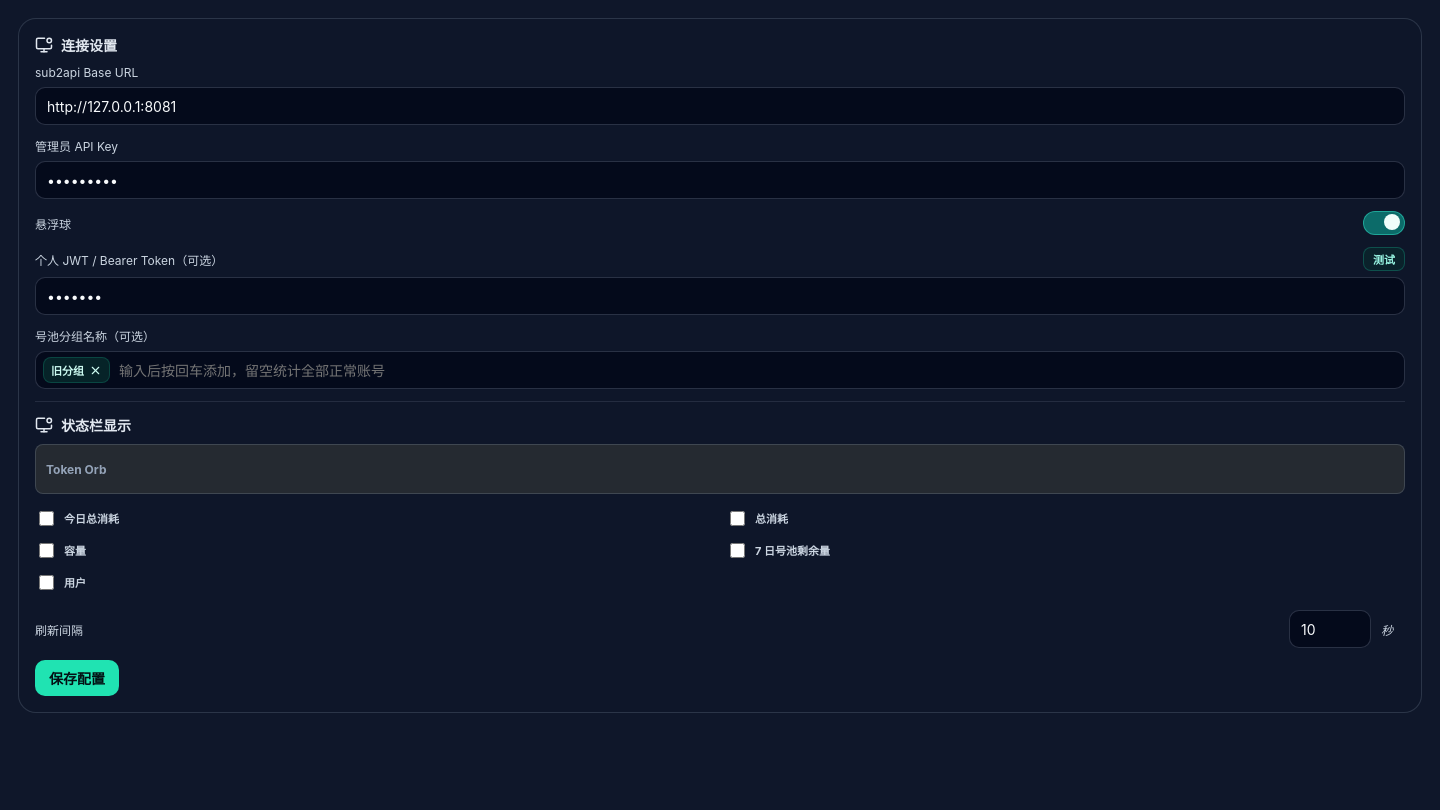
App settings sync › shows a saved confirmation after saving settings
Click the button "保存配置" at (77, 678), box top-left (35, 660), bottom-right (119, 696)
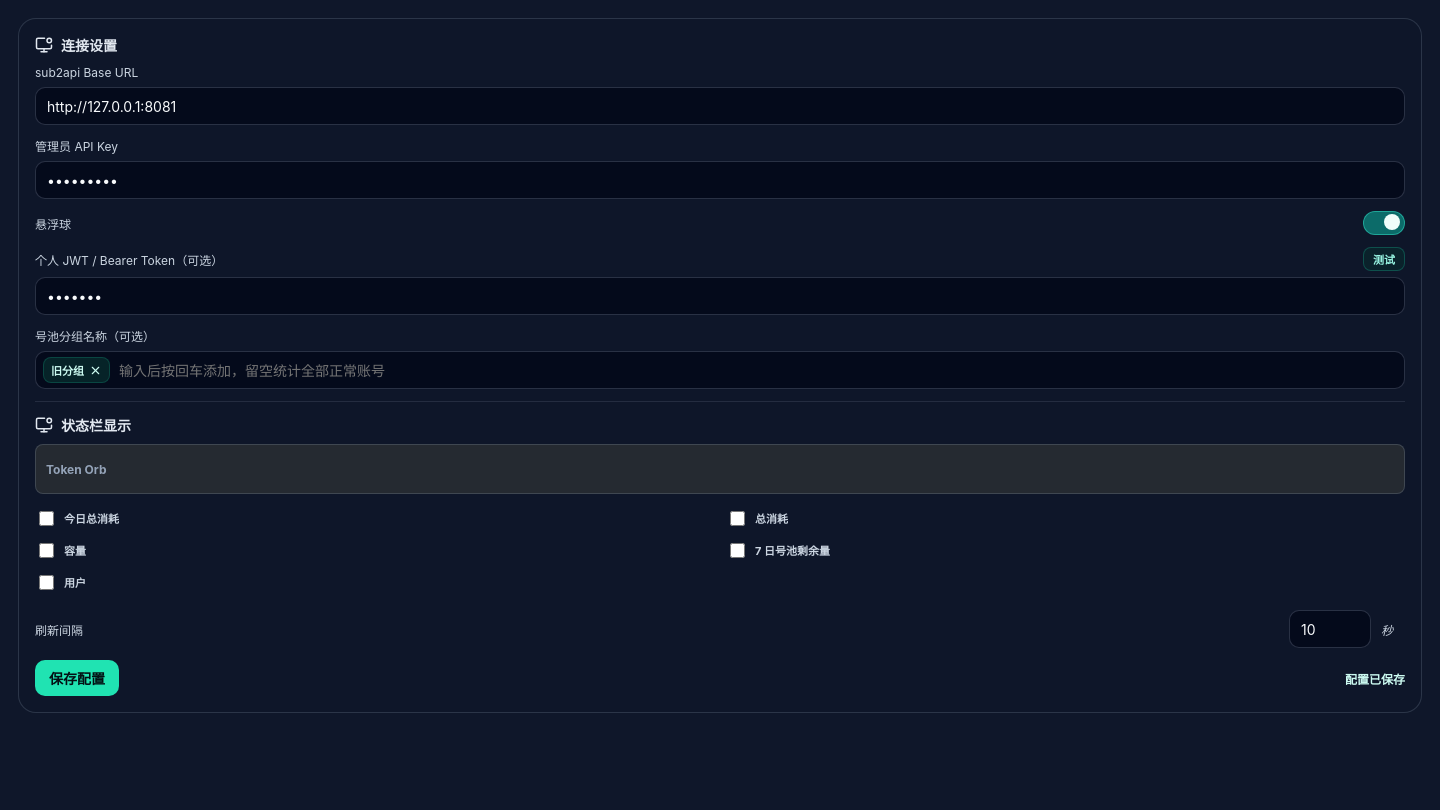
Expected: the text "配置已保存" is shown, top-left (1345, 670), bottom-right (1405, 686)
